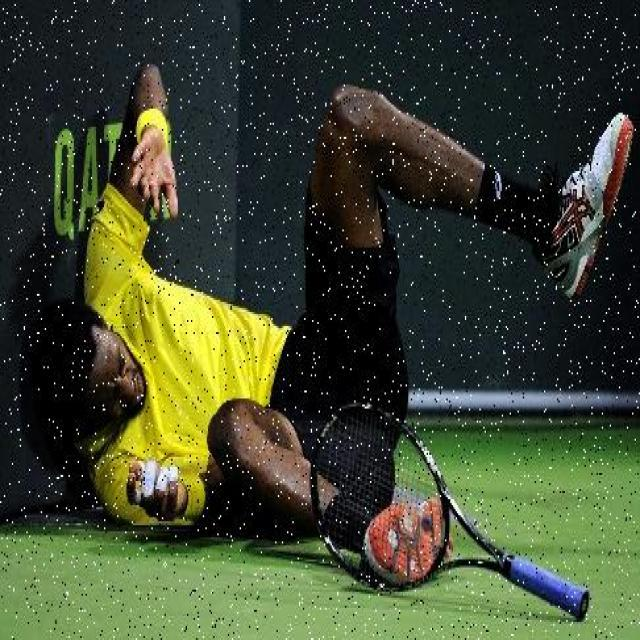fall: (21, 183, 383, 531)
